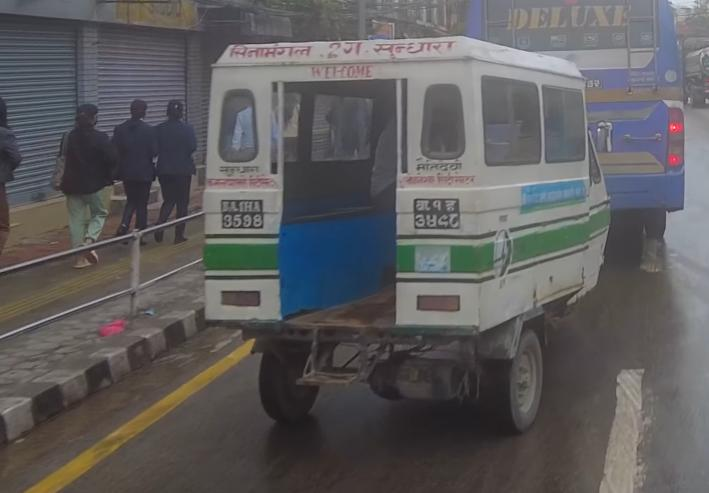bus: (457, 0, 686, 245)
tempo: (201, 27, 624, 438)
